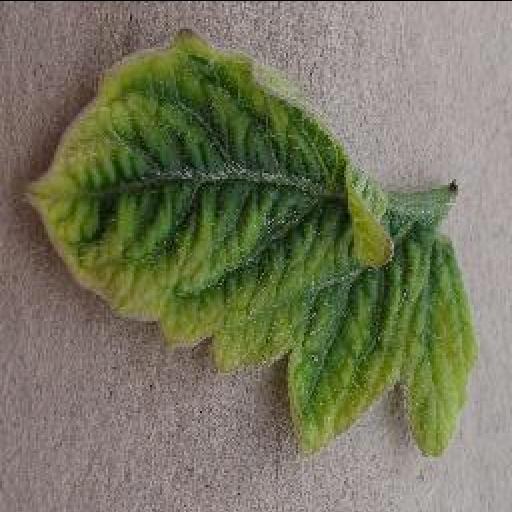disease_tomato: (26, 24, 472, 456)
